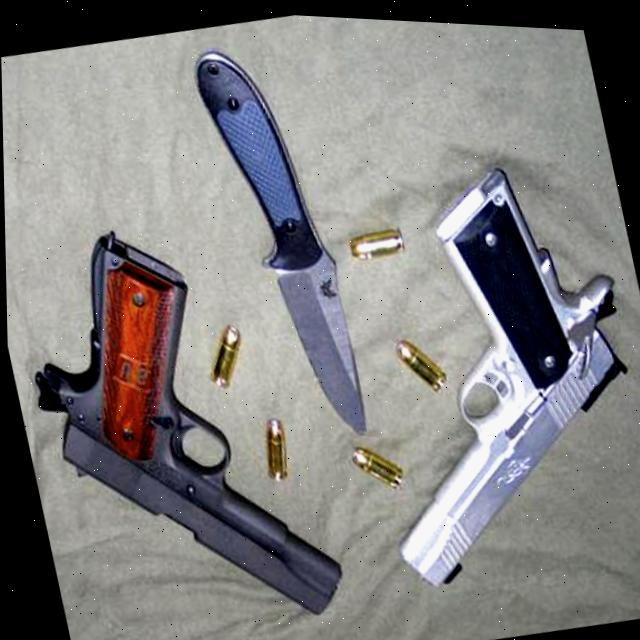pocket-knife: (192, 24, 382, 466)
